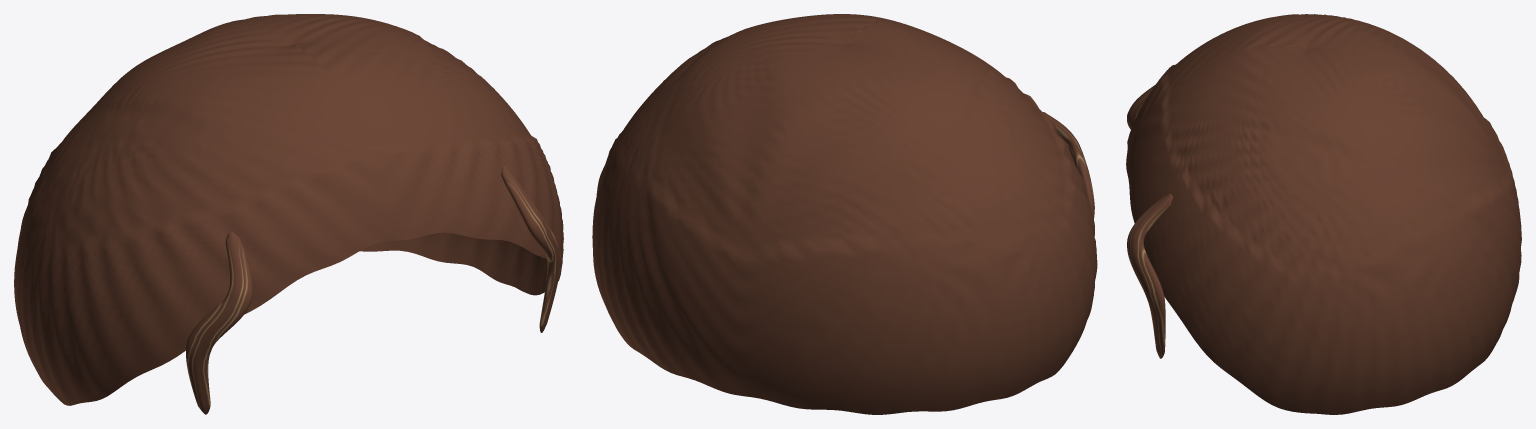
Rendered from Highlights-a54081eb2144252-hair.glb.
3 renders of one model, left to right at view 1: azimuth 30°, elevation 25°; view 2: azimuth 150°, elevation 25°; view 3: azimuth 270°, elevation 25°, orthographic. The views are drawn at different scales.
Parts seen in each view (by area): view 1: 226 hair / Hair / chestnut226.001; view 2: 226 hair / Hair / chestnut226.001; view 3: 226 hair / Hair / chestnut226.001.
Part boxes in pixels (left/top/right/bottom): 226 hair / Hair / chestnut226.001: left=14, top=14, right=563, bottom=414; 226 hair / Hair / chestnut226.001: left=592, top=14, right=1097, bottom=414; 226 hair / Hair / chestnut226.001: left=1126, top=14, right=1521, bottom=414.
Size of the model in its own units: 0.9988 by 0.599 by 0.7845.
1 material, 1 textured.
